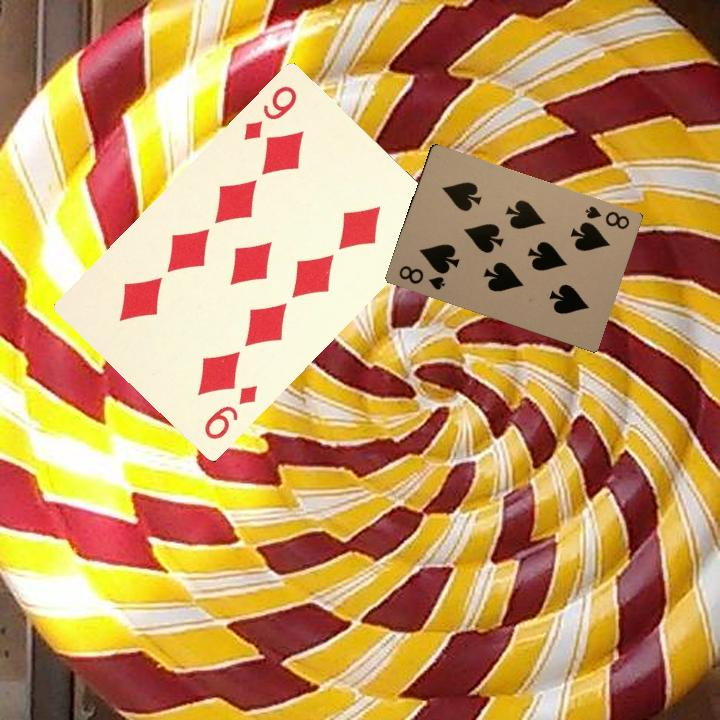8s: (395, 261, 447, 292), (581, 202, 632, 232)
9d: (239, 81, 300, 143), (200, 380, 260, 442)
